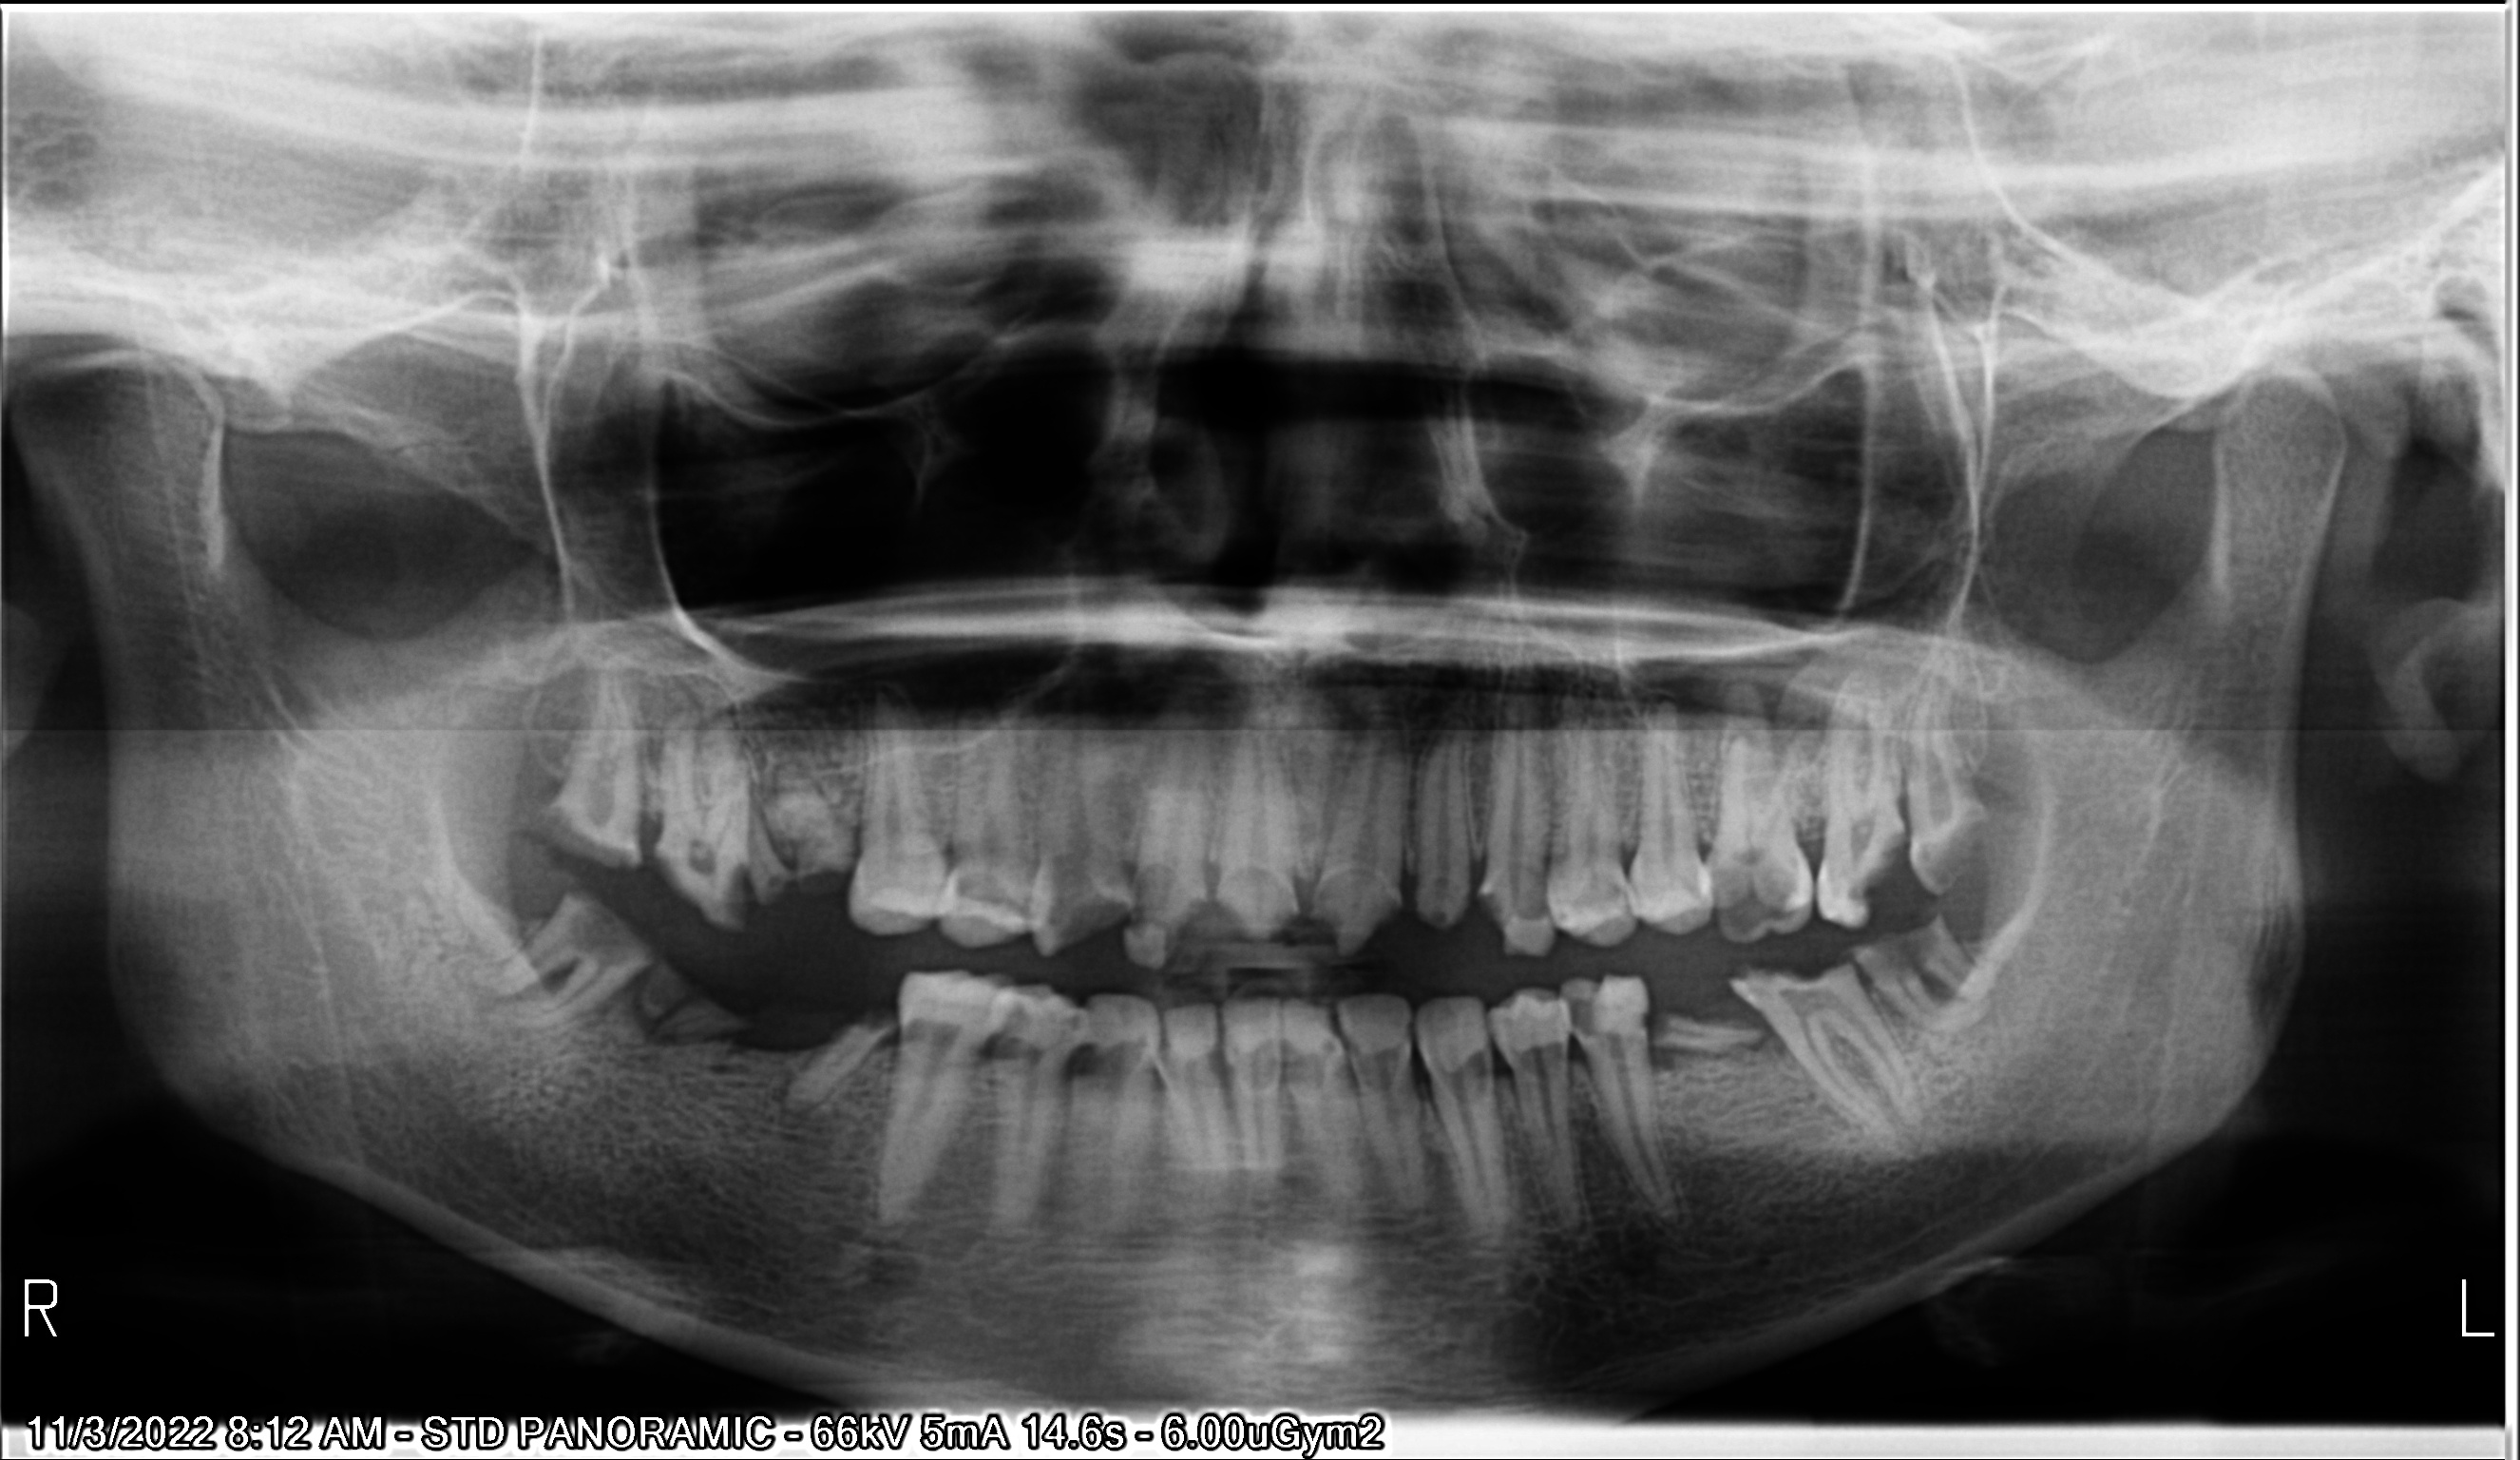API: (443, 949, 542, 1043)
CAR: (545, 789, 648, 907), (1030, 841, 1134, 951), (1725, 930, 1860, 1012), (1705, 834, 1808, 937), (940, 850, 1047, 940), (1926, 793, 2015, 890), (1857, 909, 1954, 992), (1841, 826, 1928, 918), (639, 829, 717, 923), (1556, 975, 1620, 1079), (1047, 1039, 1139, 1100), (710, 852, 775, 923), (1476, 874, 1518, 970), (1047, 982, 1079, 1064)
FUR: (507, 933, 623, 1006), (1879, 946, 1973, 1017)
ROT: (736, 998, 905, 1128), (754, 735, 860, 890), (1638, 982, 1787, 1078), (729, 782, 816, 919), (656, 985, 780, 1052), (604, 961, 719, 1025)
